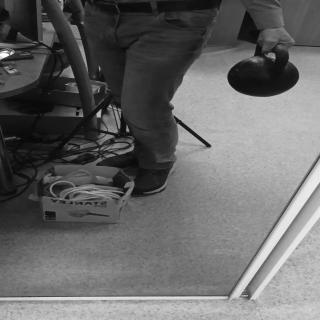kettlebell: (228, 40, 302, 97)
